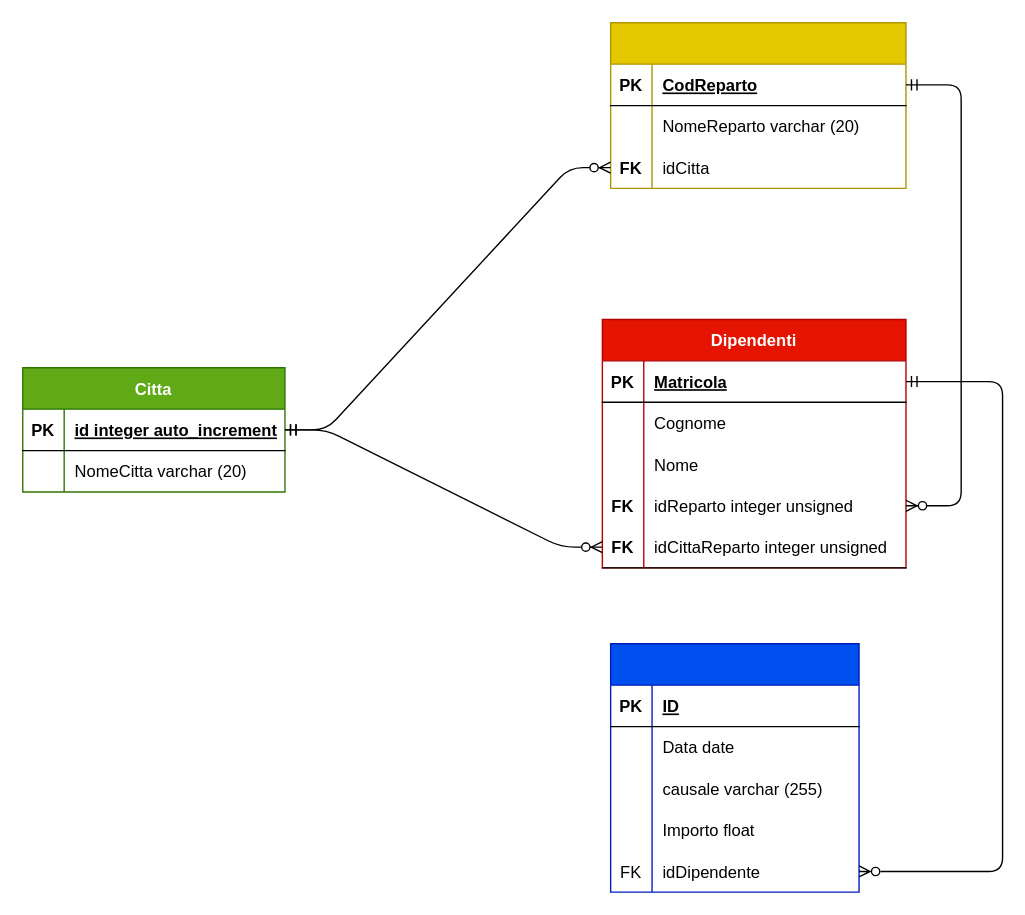
Image size: 1025x915. Some labels were removed from this diagram. The box of each missing label's shape, as (x1, y1, x2, y2) in pixels:
Pagamento: (609, 642, 859, 892)
Reparti: (609, 21, 906, 188)
